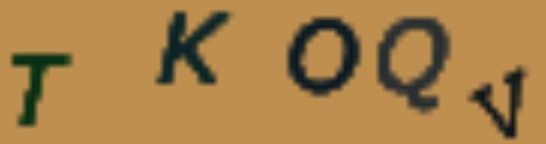K: (153, 6, 231, 87)
O: (284, 16, 366, 100)
Q: (373, 13, 455, 115)
T: (4, 48, 77, 132)
V: (465, 64, 536, 144)
